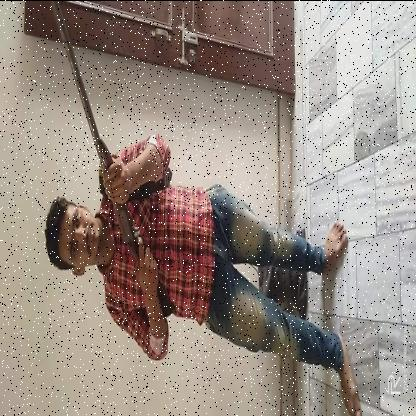rifle: (49, 1, 177, 319)
